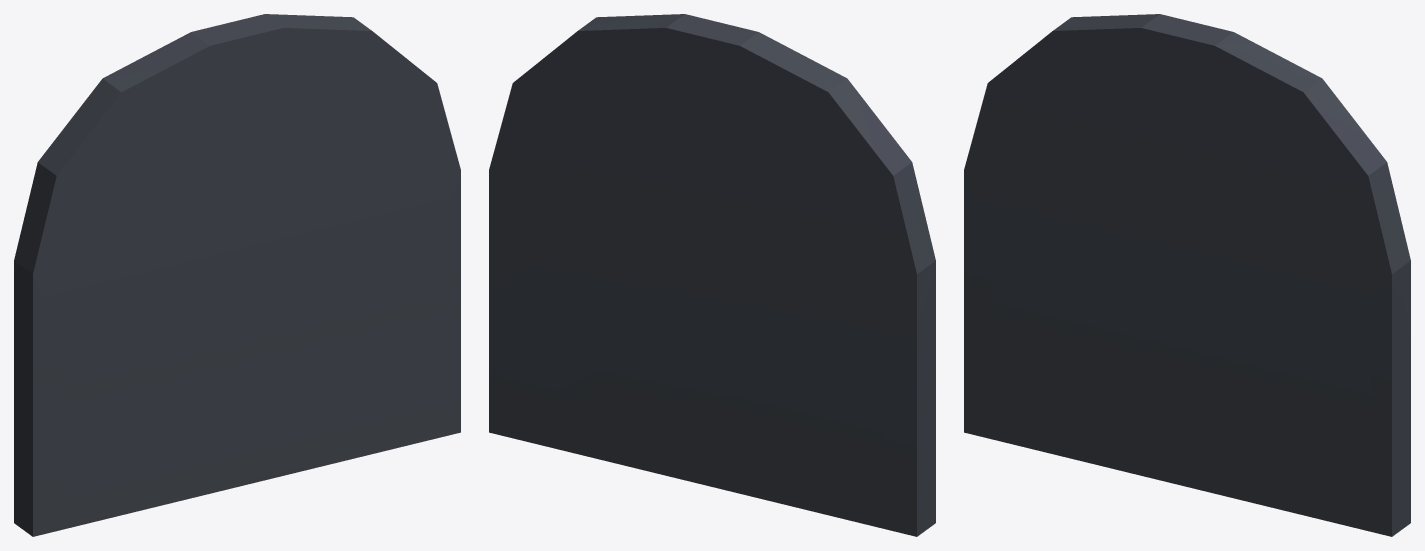
Rendered from Mailbox_08.fbx.
The picture shows the model from 3 angles, left to right: view 1: azimuth 30°, elevation 25°; view 2: azimuth 150°, elevation 25°; view 3: azimuth 330°, elevation 25°; orthographic projection.
Parts seen in each view (by area): view 1: Mailbox_08; view 2: Mailbox_08; view 3: Mailbox_08.
Boxes of the visible parts, bbox=[...] form: Mailbox_08: bbox=[14, 14, 460, 536]; Mailbox_08: bbox=[489, 14, 935, 536]; Mailbox_08: bbox=[964, 14, 1410, 536].
Size of the model in its own units: 0.2398 by 0.2398 by 0.0184.
